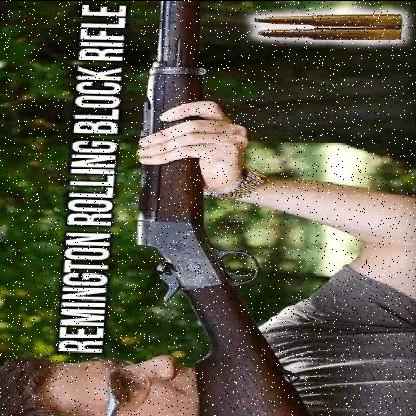rifle: (109, 1, 314, 416)
